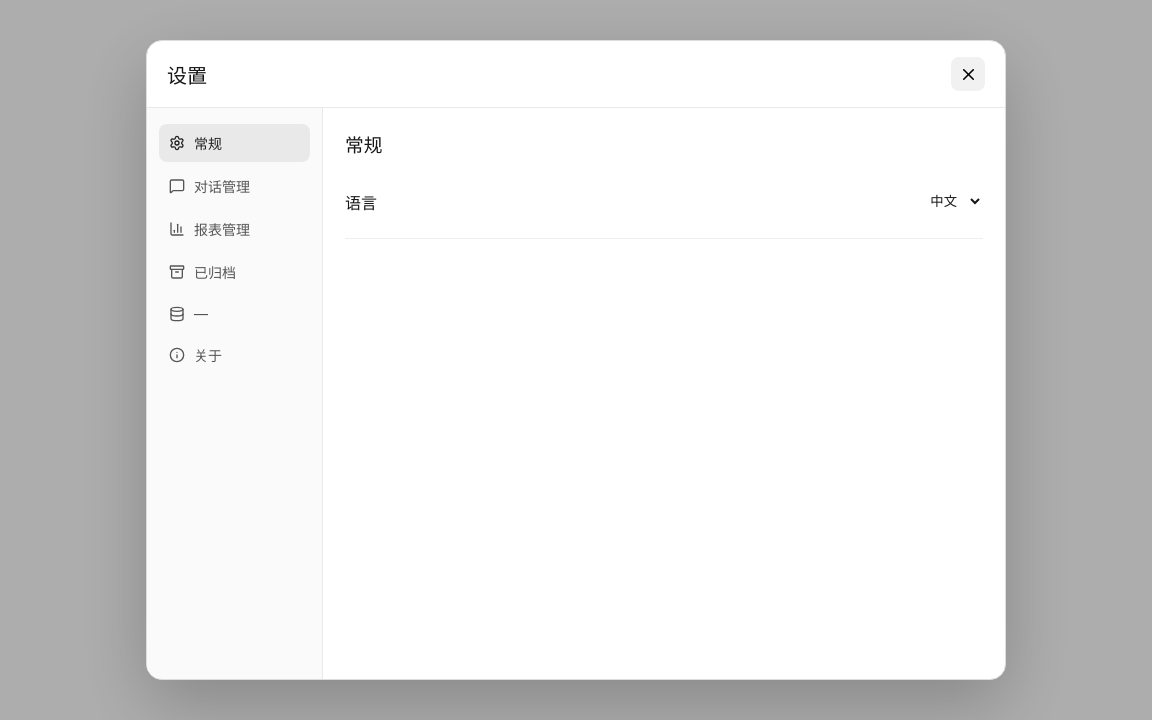
Test: ResourceManager lifecycle operations › keeps failed resources selected and reports the exact failure
Click the button "对话管理".
click(234, 186)  # box left=159, top=167, right=310, bottom=205
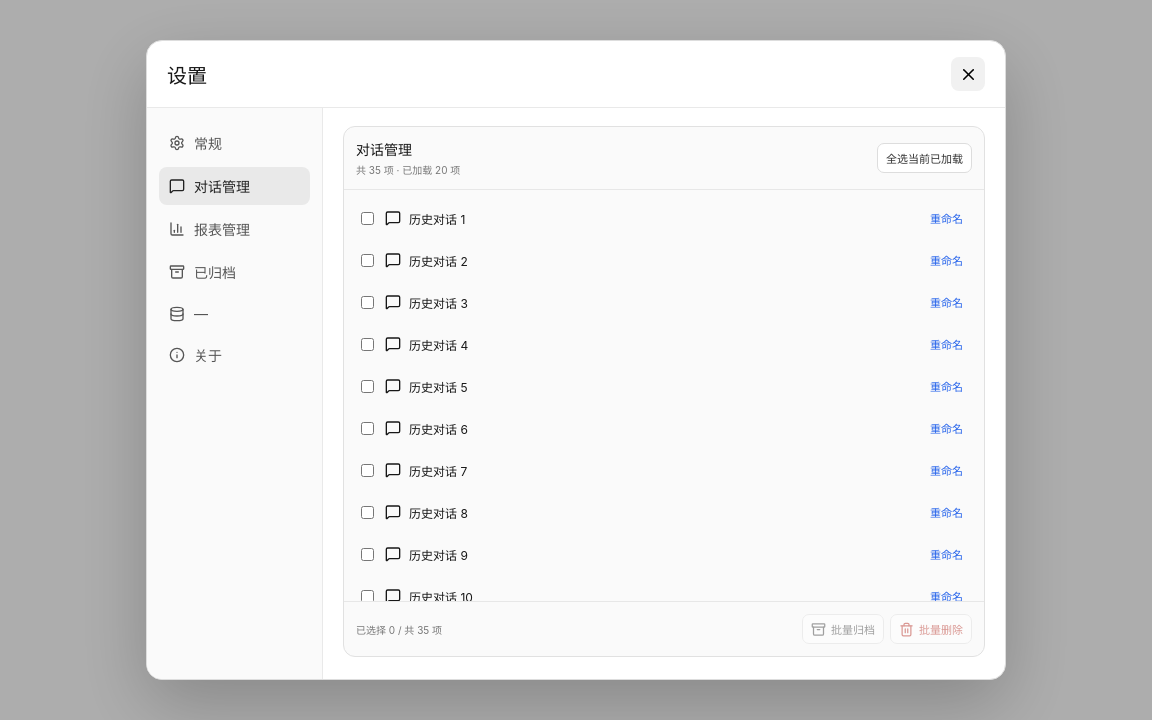
Result: the text "共 35 项 · 已加载 20 项" is shown at left=356, top=162, right=460, bottom=177
Click the checkbox named "选择对话：历史对话 1".
click(368, 218)  # box left=361, top=212, right=374, bottom=224
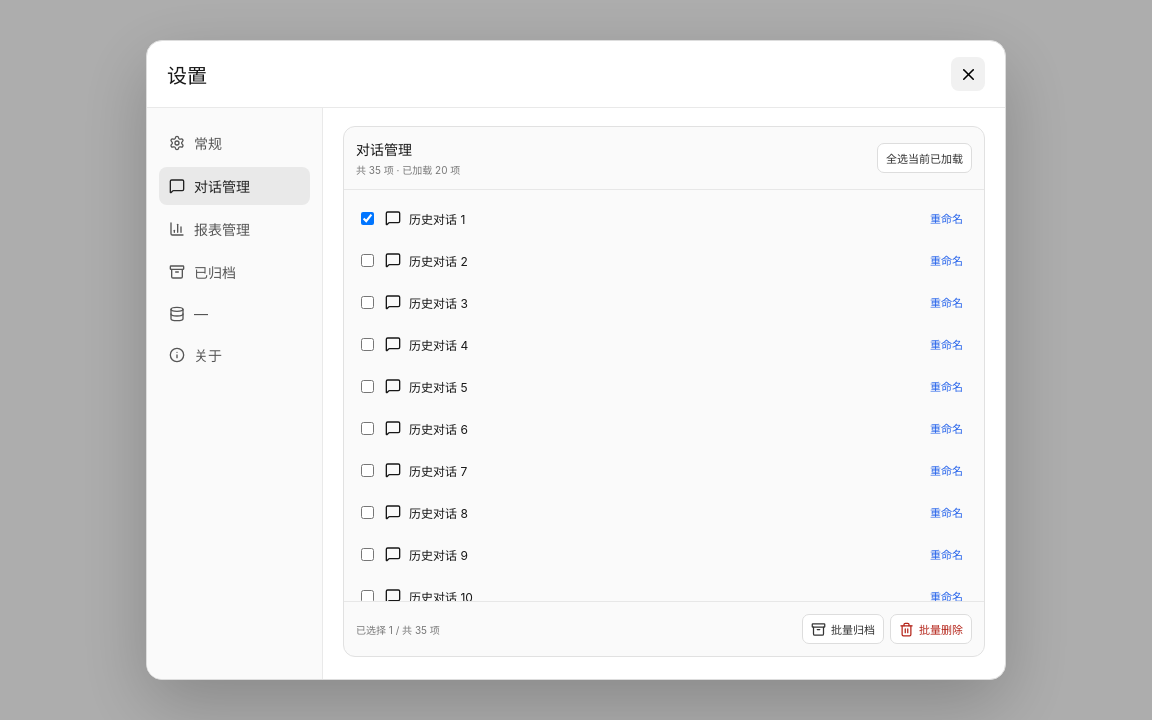
Click the button "批量删除".
click(931, 629)  # box left=890, top=614, right=972, bottom=644
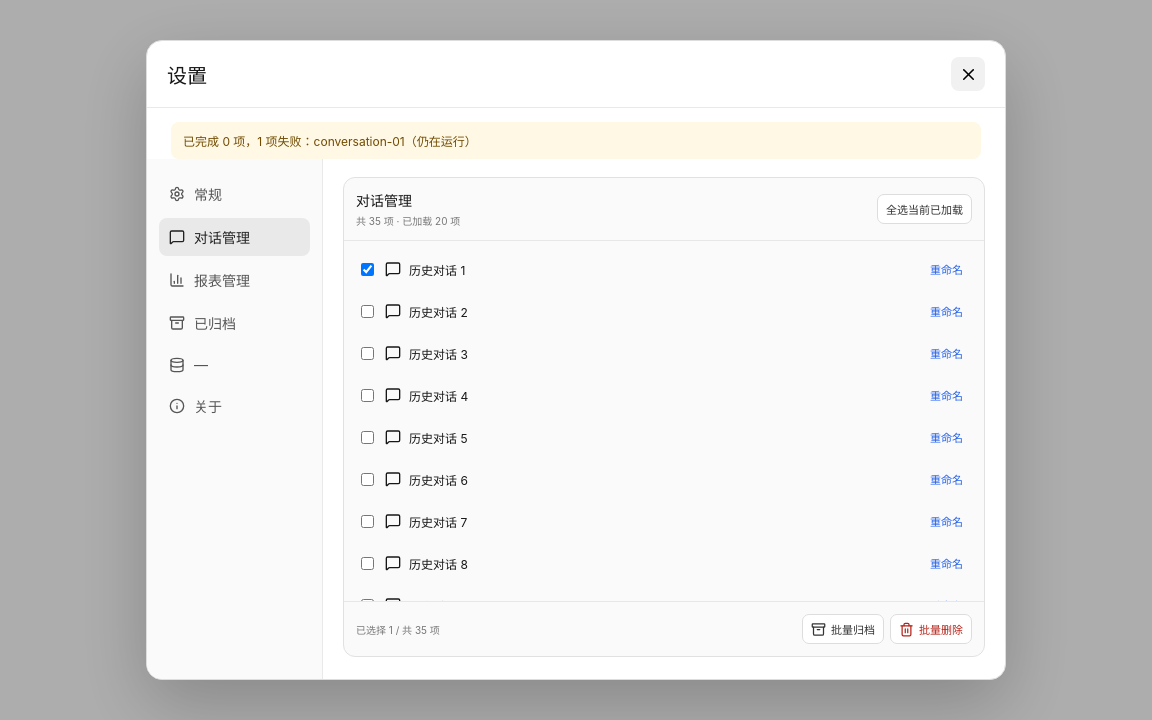
Result: the checkbox named "选择对话：历史对话 1" is checked at left=361, top=262, right=374, bottom=276
Result: the text "已完成 0 项，1 项失败：conversation-01（仍在运行）" is shown at left=171, top=122, right=981, bottom=159
